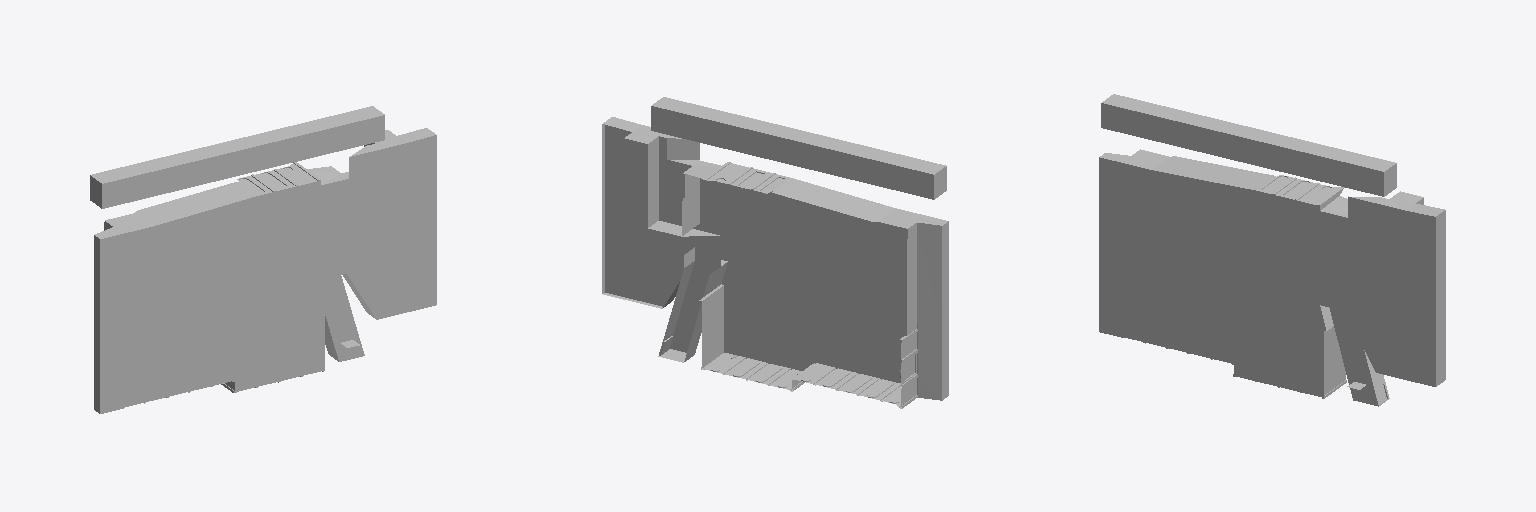
File: Elektrownia jedna drugaa.obj
The picture shows the model from 3 angles: view 1: azimuth 30°, elevation 25°; view 2: azimuth 150°, elevation 25°; view 3: azimuth 330°, elevation 25°; orthographic projection.
Visible parts, largest first — view 1: Cube.003; view 2: Cube.003; view 3: Cube.003.
Boxes of the visible parts, x1=… form: Cube.003: x1=90, y1=106, x2=436, y2=413; Cube.003: x1=602, y1=97, x2=948, y2=408; Cube.003: x1=1099, y1=94, x2=1445, y2=406.
Size of the model in its own units: 0.0551 by 0.0381 by 0.0071.